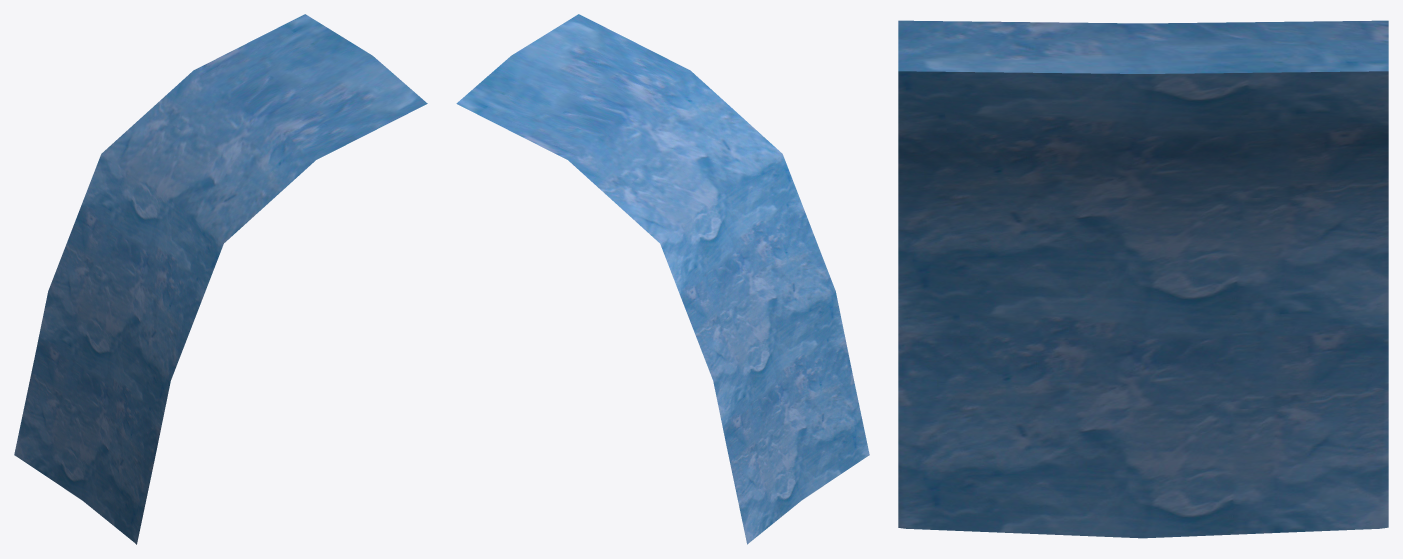
Rendered from IceC5.fbx.
The picture shows the model from 3 angles, left to right: view 1: azimuth 30°, elevation 25°; view 2: azimuth 150°, elevation 25°; view 3: azimuth 270°, elevation 25°; orthographic projection. The views are drawn at different scales.
Visible parts, largest first — view 1: IceC5; view 2: IceC5; view 3: IceC5.
Boxes of the visible parts, left/top/right/bottom form: IceC5: left=14, top=14, right=427, bottom=544; IceC5: left=456, top=14, right=869, bottom=544; IceC5: left=898, top=20, right=1388, bottom=538.
Bounding box in the file's own units: 1243 × 1494 × 888.
